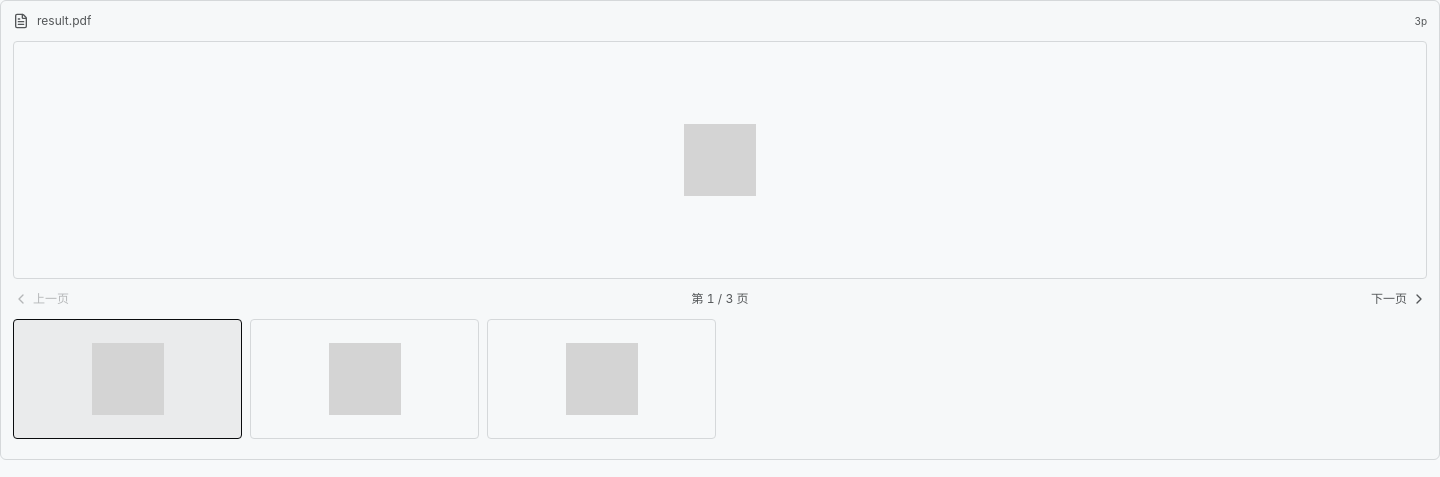
Test: PdfResultPreview › renders three thumbnails and navigates the selected page
Check: the number of buttons named "页缩略图" is 3, box [13, 319, 242, 439]; [250, 319, 479, 439]; [487, 319, 716, 439]
Check: the text "第 1 / 3 页" is shown, box [692, 291, 748, 307]
Click the button "下一页" at x=1399, y=299, box [1371, 291, 1427, 307]
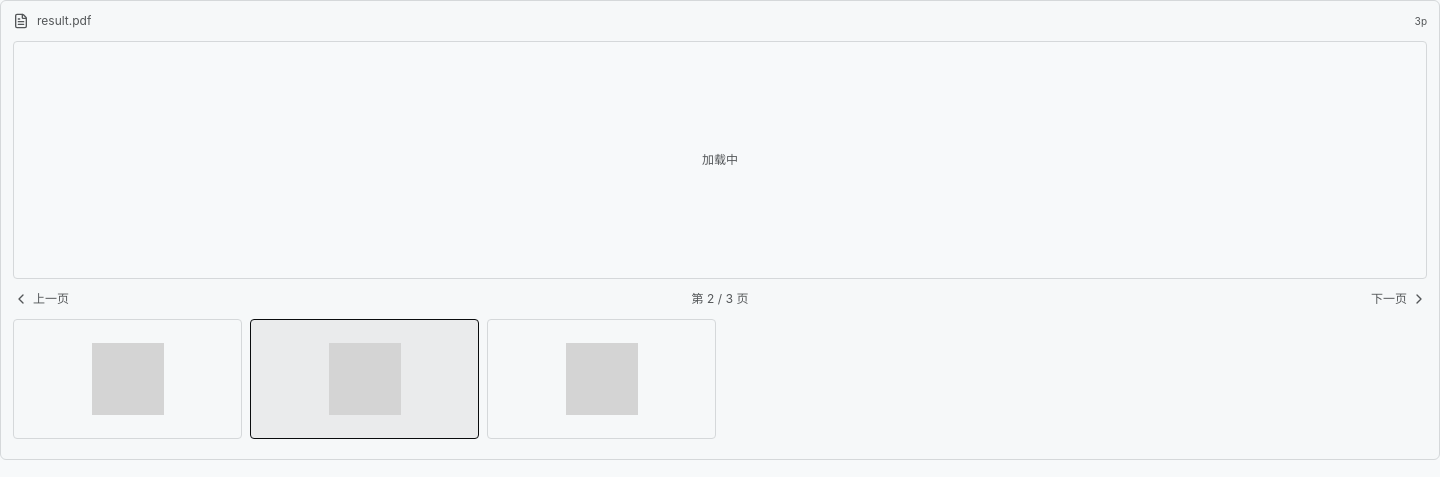
Check: the text "第 2 / 3 页" is shown, box [692, 291, 748, 307]
Click the button named "第 3 页缩略图" at x=602, y=379, box [487, 319, 716, 439]
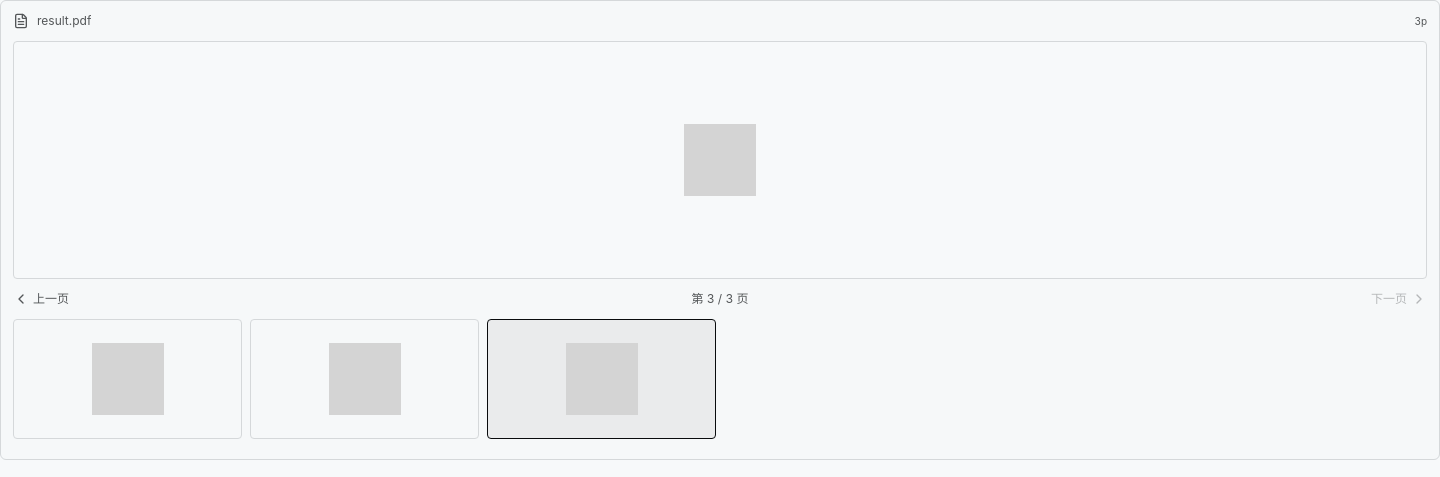
Check: the text "第 3 / 3 页" is shown, box [692, 291, 748, 307]
Check: the button "下一页" is disabled, box [1371, 291, 1427, 307]
